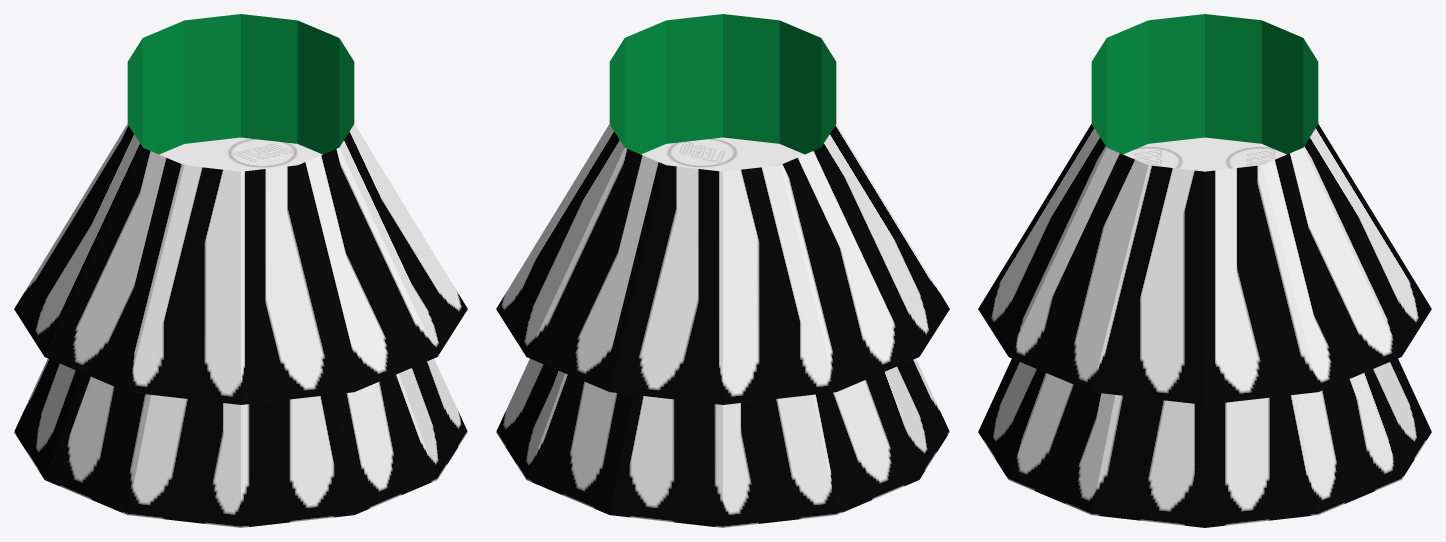
The picture shows the model from 3 angles, left to right: view 1: azimuth 30°, elevation 25°; view 2: azimuth 150°, elevation 25°; view 3: azimuth 270°, elevation 25°; orthographic projection.
Visible parts, largest first — view 1: 006_L_606500_PART_1; view 2: 006_L_606500_PART_1; view 3: 006_L_606500_PART_1.
Boxes of the visible parts, x1=… form: 006_L_606500_PART_1: x1=14, y1=14, x2=467, y2=527; 006_L_606500_PART_1: x1=496, y1=14, x2=949, y2=527; 006_L_606500_PART_1: x1=978, y1=14, x2=1431, y2=527.
Bounding box in the file's own units: 3.2 × 2.88 × 3.2.
4 materials, 3 textured.
